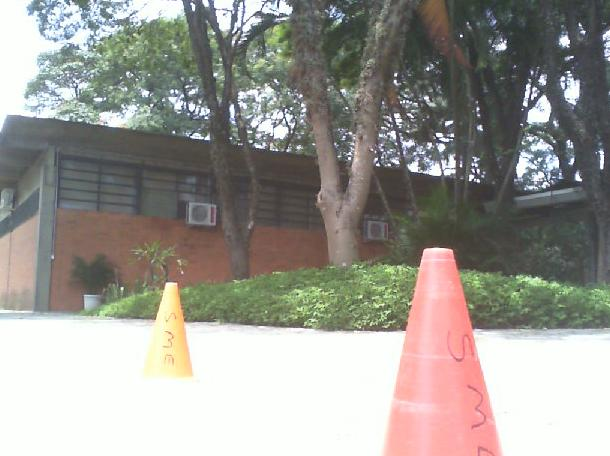0 cone: (375, 247, 510, 456), (140, 283, 192, 377)
